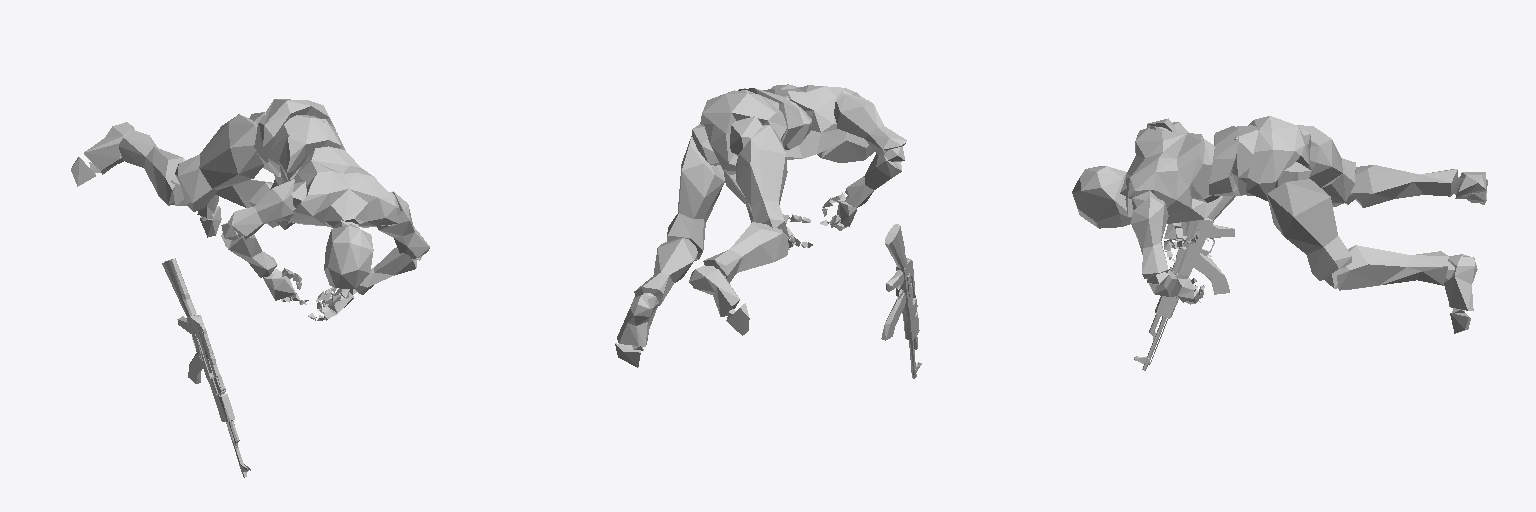
Rendered from EnemyDying_000041.obj.
3 views of the same model, side by side, from view 1: azimuth 30°, elevation 25°; view 2: azimuth 150°, elevation 25°; view 3: azimuth 270°, elevation 25° (orthographic).
Visible parts, largest first — view 1: Alpha_Surface, AK-47_Cube, Alpha_Joints; view 2: Alpha_Surface, AK-47_Cube, Alpha_Joints; view 3: Alpha_Surface, Alpha_Joints, AK-47_Cube.
Part boxes in pixels (x1,y1,x2,y2): Alpha_Surface: (71, 99, 429, 320); AK-47_Cube: (162, 258, 250, 477); Alpha_Joints: (89, 112, 422, 320); Alpha_Surface: (615, 84, 906, 367); AK-47_Cube: (881, 224, 921, 378); Alpha_Joints: (632, 88, 904, 350); Alpha_Surface: (1072, 116, 1487, 333); Alpha_Joints: (1120, 125, 1482, 313); AK-47_Cube: (1134, 196, 1235, 370).
Size of the model in its own units: 183 by 243 by 300.